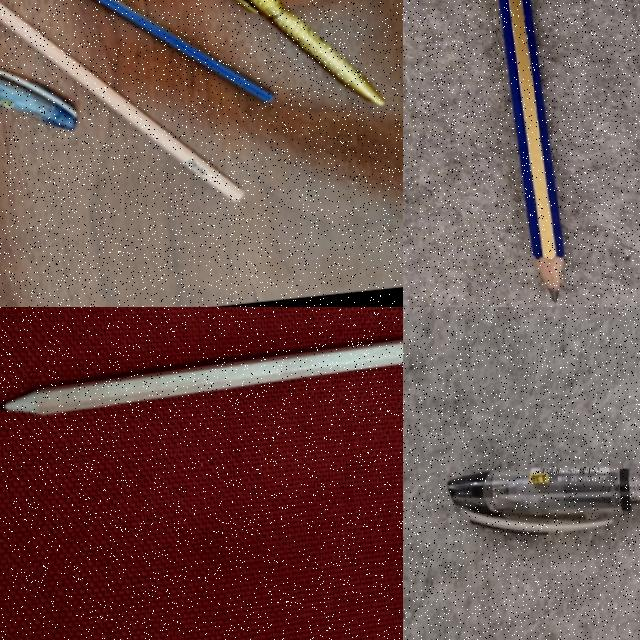pen: (449, 467, 639, 533), (0, 70, 76, 128)
pencil: (0, 2, 241, 201), (0, 341, 402, 414), (501, 0, 563, 300), (93, 0, 272, 99)
signature pen: (236, 0, 383, 104)
